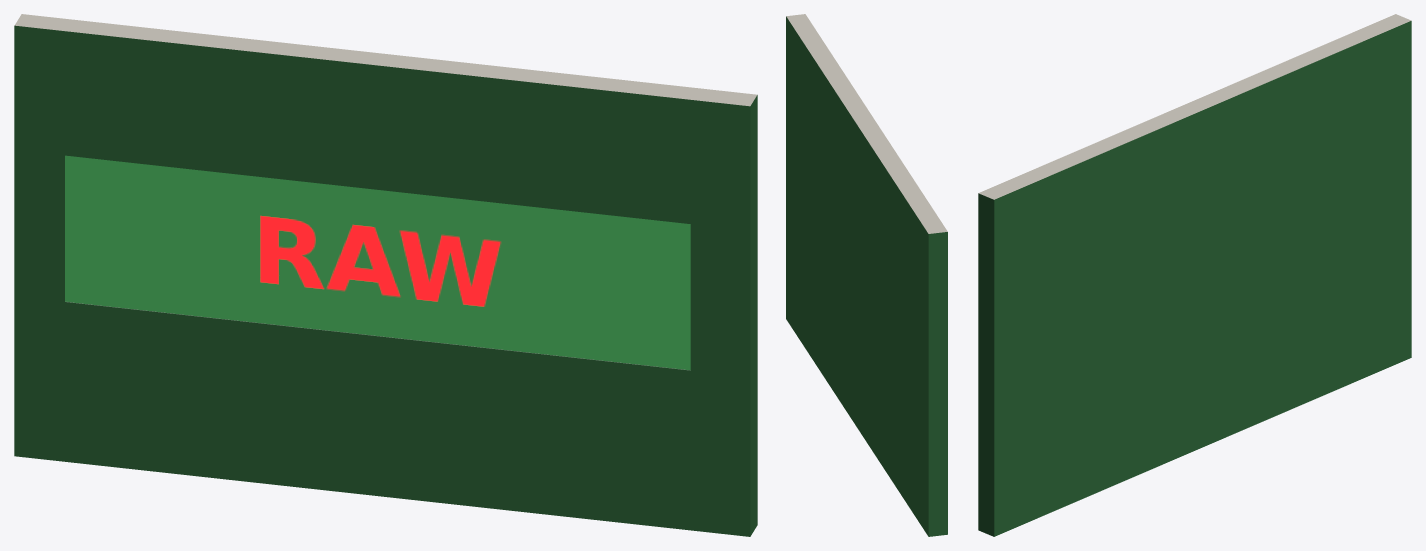
File: raw_bldg.glb
3 views of the same model, side by side, from view 1: azimuth 30°, elevation 25°; view 2: azimuth 150°, elevation 25°; view 3: azimuth 270°, elevation 25° (orthographic). The views are drawn at different scales.
Visible parts, largest first — view 1: raw_bldg_lod0; view 2: raw_bldg_lod0; view 3: raw_bldg_lod0.
Boxes of the visible parts, x1,y1,x2,y2 form: raw_bldg_lod0: (14,14,757,536); raw_bldg_lod0: (786,14,947,536); raw_bldg_lod0: (978,14,1411,536).
Size of what is drawn, in the model's own units: 5.91 by 5 by 5.83.
3 materials, 1 textured.
